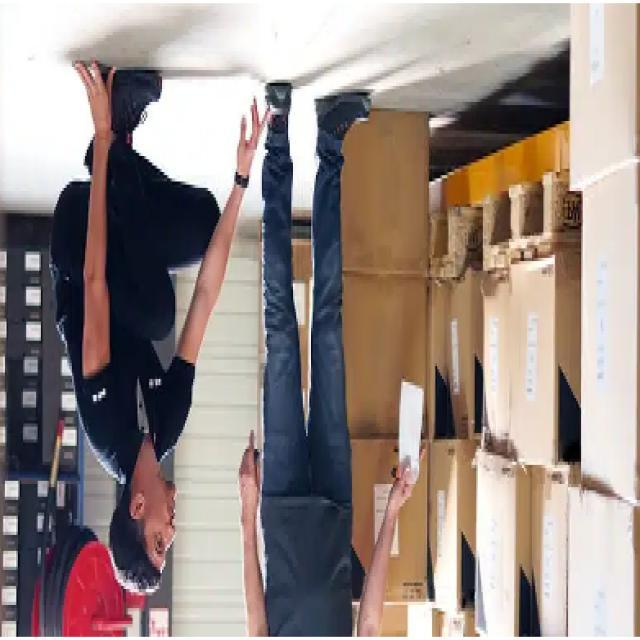shoes: (257, 79, 375, 167), (82, 61, 168, 181)
